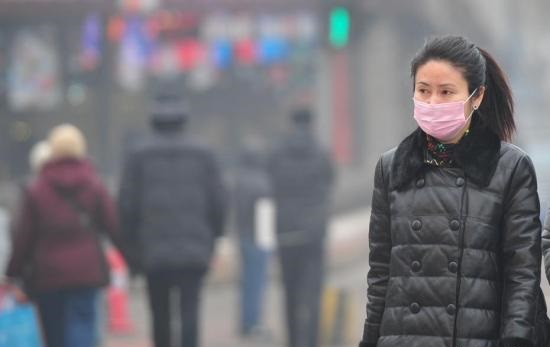face_mask: (413, 63, 473, 139)
